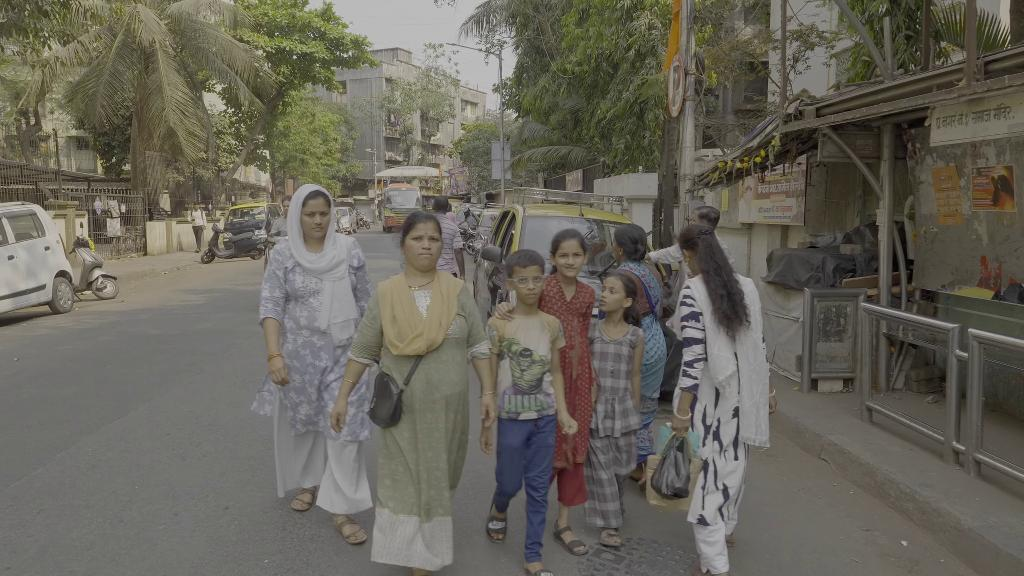garbage: (649, 435, 691, 502)
